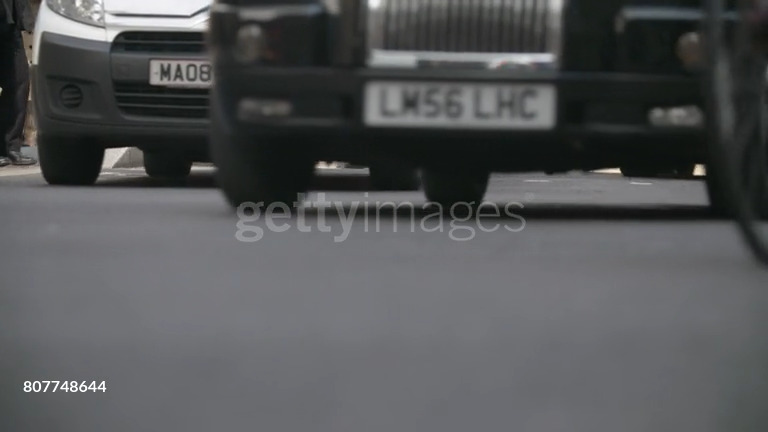car number: (360, 80, 552, 126), (148, 57, 214, 86)
